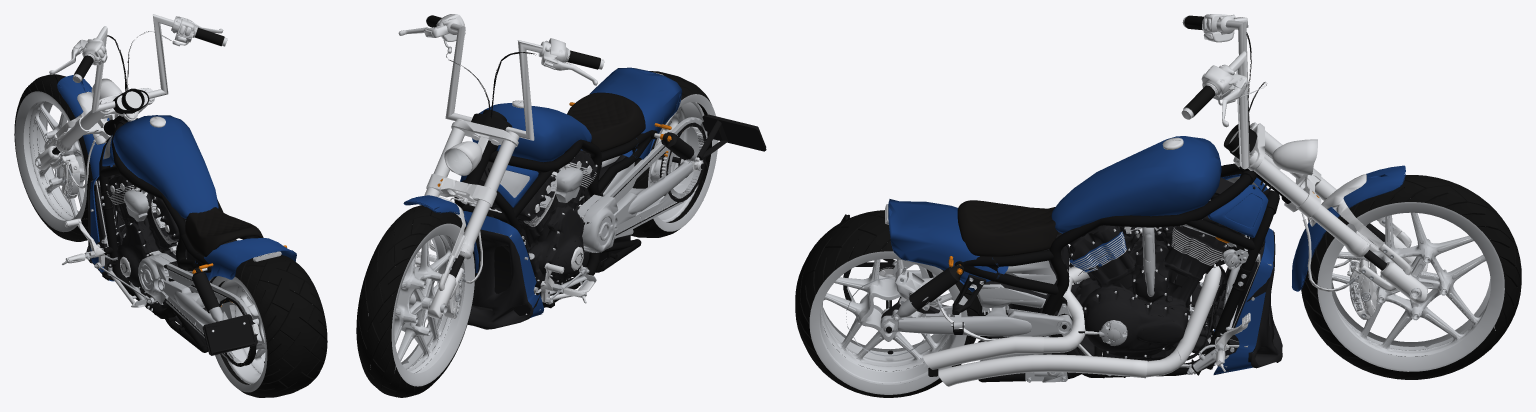
The model's file is vrod.glb.
The picture shows the model from 3 angles, left to right: view 1: azimuth 30°, elevation 25°; view 2: azimuth 150°, elevation 25°; view 3: azimuth 270°, elevation 25°; orthographic projection. The views are drawn at different scales.
Parts seen in each view (by area): view 1: vrodft, htire-material (×2), b10_003-material (×2), mirorglass-material (×2), uni_piramid_ao-material (×2); view 2: vrodft, htire-material (×2), b10_003-material (×2), mirorglass-material (×2), uni_piramid_ao-material; view 3: vrodft, htire-material (×2), b10_003-material (×2), mirorglass-material (×2), uni_piramid_ao-material (×2).
Boxes of the visible parts, x1,y1,x2,y2 form: vrodft: (35,14,296,366); htire-material (×2): (14,74,327,397); b10_003-material (×2): (23,101,265,384); mirorglass-material (×2): (15,91,267,392); uni_piramid_ao-material (×2): (14,74,327,397); vrodft: (398,14,766,329); htire-material (×2): (356,71,711,397); b10_003-material (×2): (368,102,707,373); mirorglass-material (×2): (370,94,718,386); uni_piramid_ao-material: (356,206,475,397); vrodft: (840,14,1427,386); htire-material (×2): (795,175,1521,397); b10_003-material (×2): (819,212,1488,384); mirorglass-material (×2): (809,202,1504,394); uni_piramid_ao-material (×2): (795,176,1521,397).
Size of the model in its own units: 0.8931 by 1.34 by 2.5.
